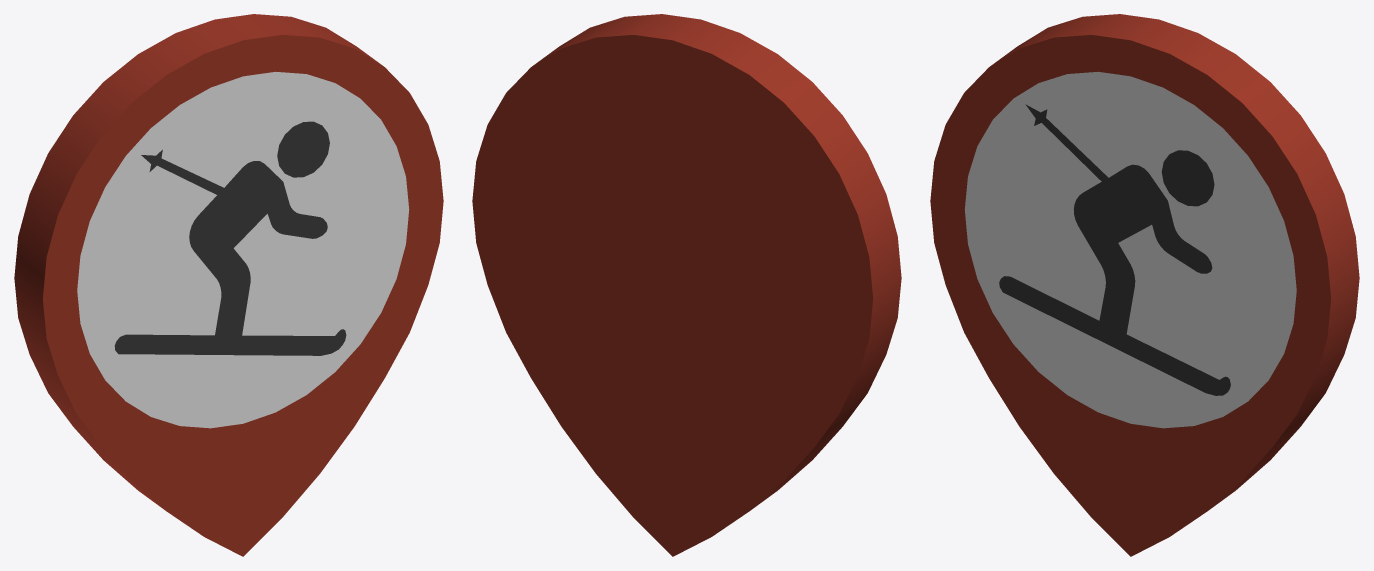
The model's file is x_pin_ski.glb.
3 views of the same model, side by side, from view 1: azimuth 30°, elevation 25°; view 2: azimuth 150°, elevation 25°; view 3: azimuth 330°, elevation 25° (orthographic).
Parts seen in each view (by area): view 1: x_pin_ski; view 2: x_pin_ski; view 3: x_pin_ski.
Part boxes in pixels (bbox=[...]): x_pin_ski: bbox=[14, 14, 443, 556]; x_pin_ski: bbox=[472, 14, 901, 556]; x_pin_ski: bbox=[930, 14, 1359, 556].
Size of the model in its own units: 1.73 by 2.13 by 0.2244.
